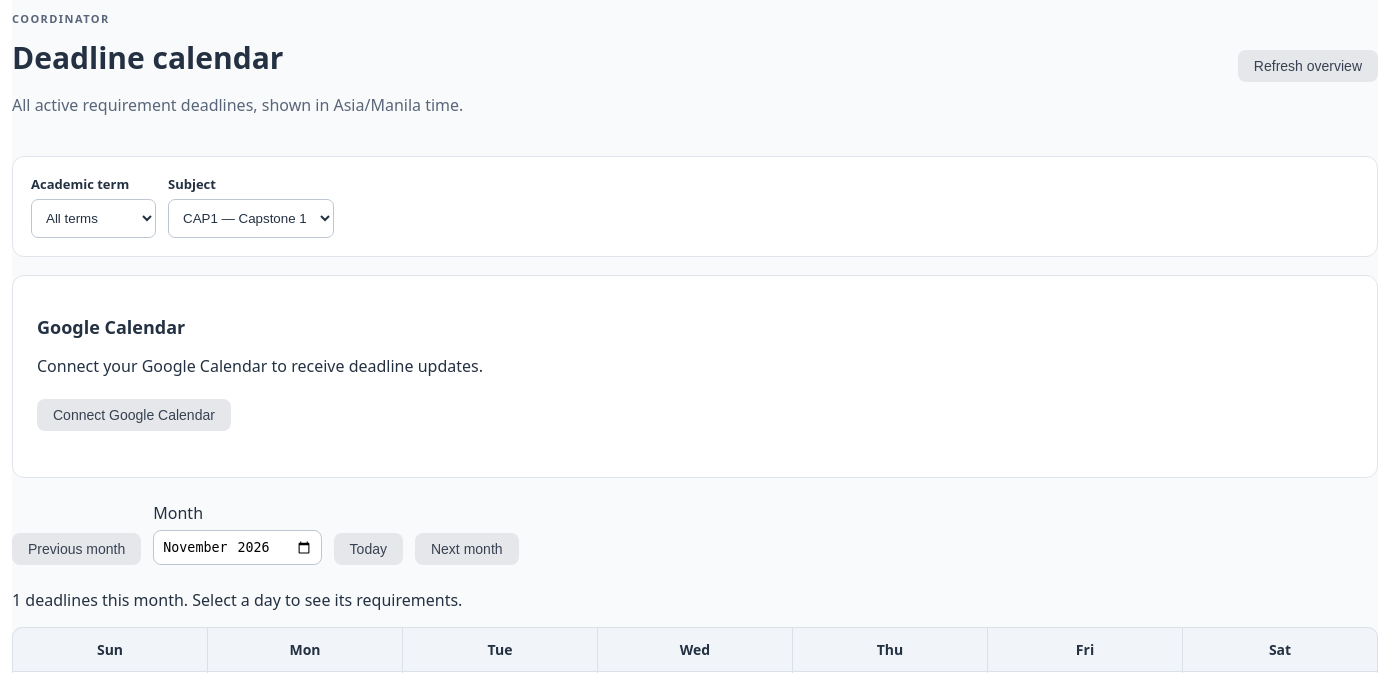
calendar shows requirements without enrollment and supports month navigation
Click the button "Next month": (467, 549) top-left (415, 533), bottom-right (519, 565)
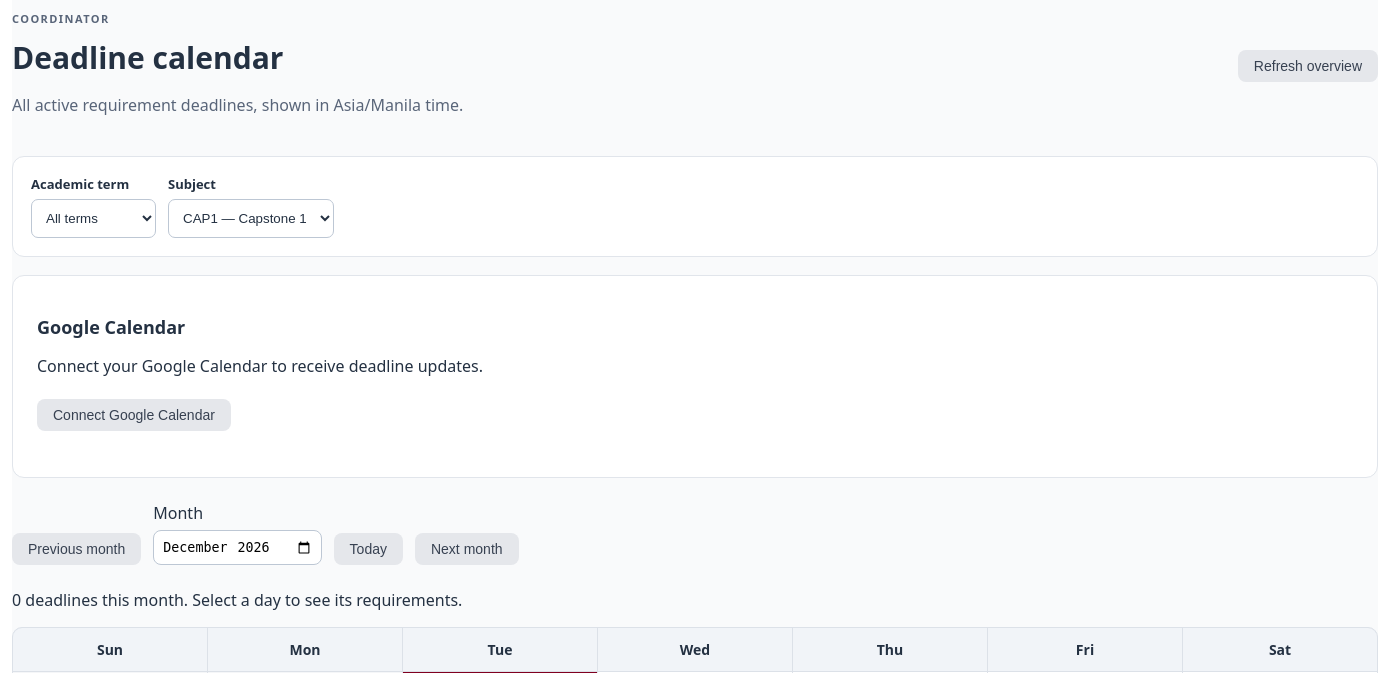
Result: the text "0 deadlines this month" is shown at top-left (12, 589), bottom-right (462, 611)
